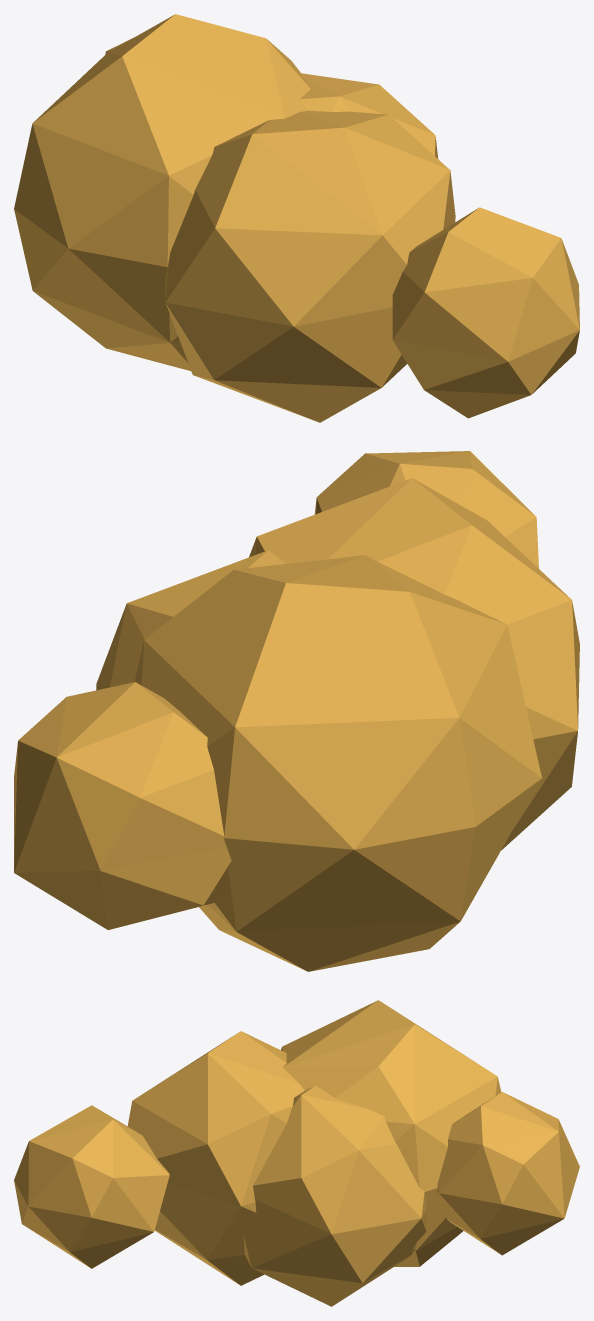
The model's file is 01_02ToxicCloud.fbx.
3 views of the same model, one above another, from view 1: azimuth 30°, elevation 25°; view 2: azimuth 150°, elevation 25°; view 3: azimuth 270°, elevation 25° (orthographic). The views are drawn at different scales.
Visible parts, largest first — view 1: Icosphere.024; view 2: Icosphere.024; view 3: Icosphere.024.
Boxes of the visible parts, x1,y1,x2,y2 form: Icosphere.024: (14, 14, 579, 422); Icosphere.024: (14, 451, 579, 971); Icosphere.024: (14, 1000, 579, 1306).
Bounding box in the file's own units: 58.81 × 48.38 × 103.
